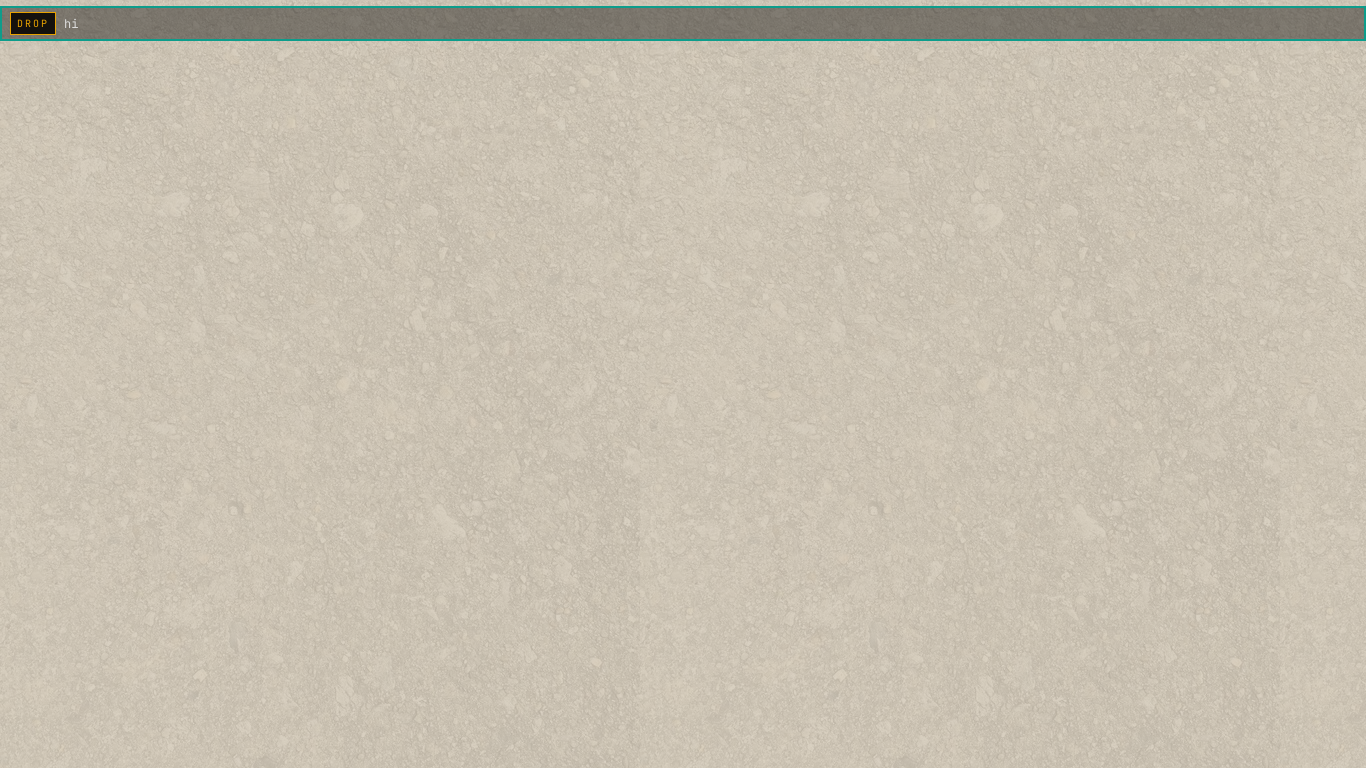
Test: DropSlot › collapse button returns to compact mode
This screenshot has width=1366, height=768.
Step 1. Click the button with test id "drop-slot" → click(33, 24), box left=0, top=6, right=1365, bottom=41
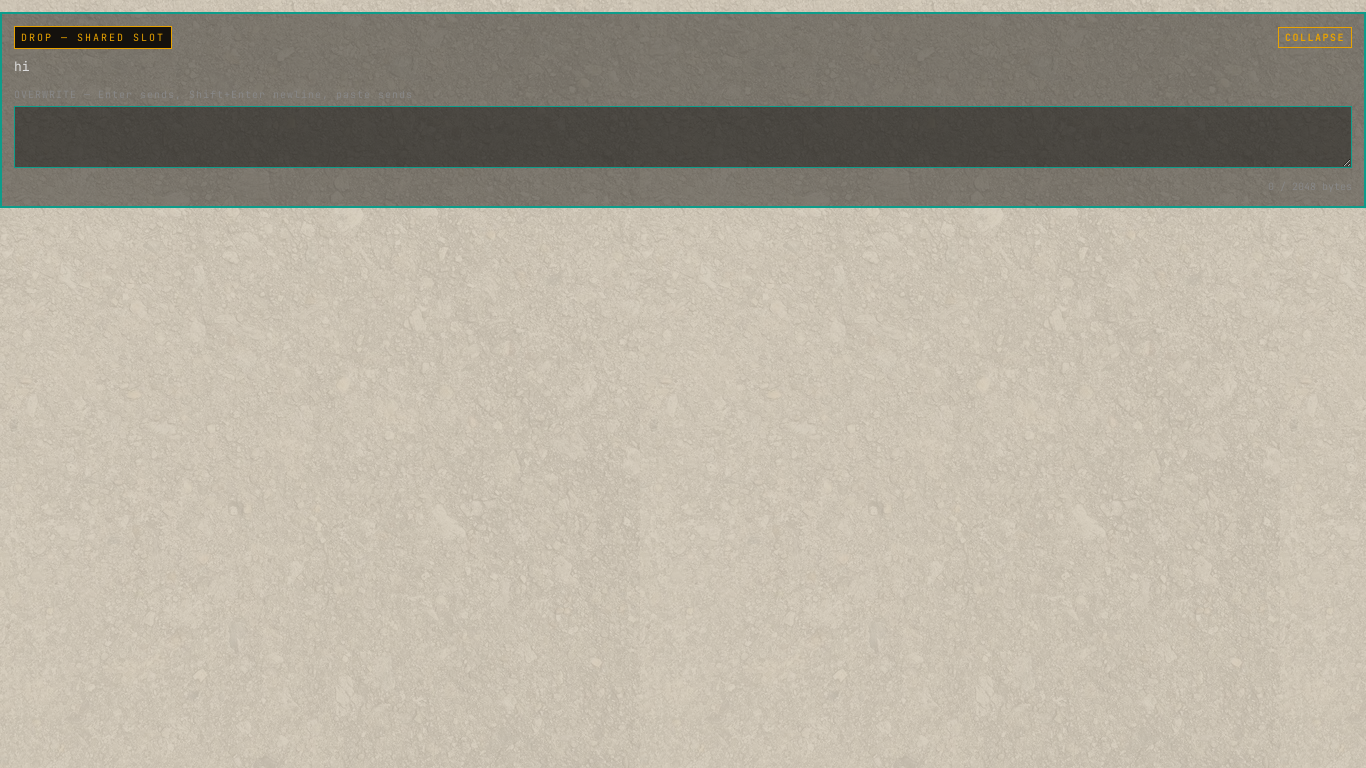
Step 2. Click the button with test id "drop-slot-collapse" → click(1315, 38), box left=1278, top=27, right=1352, bottom=48
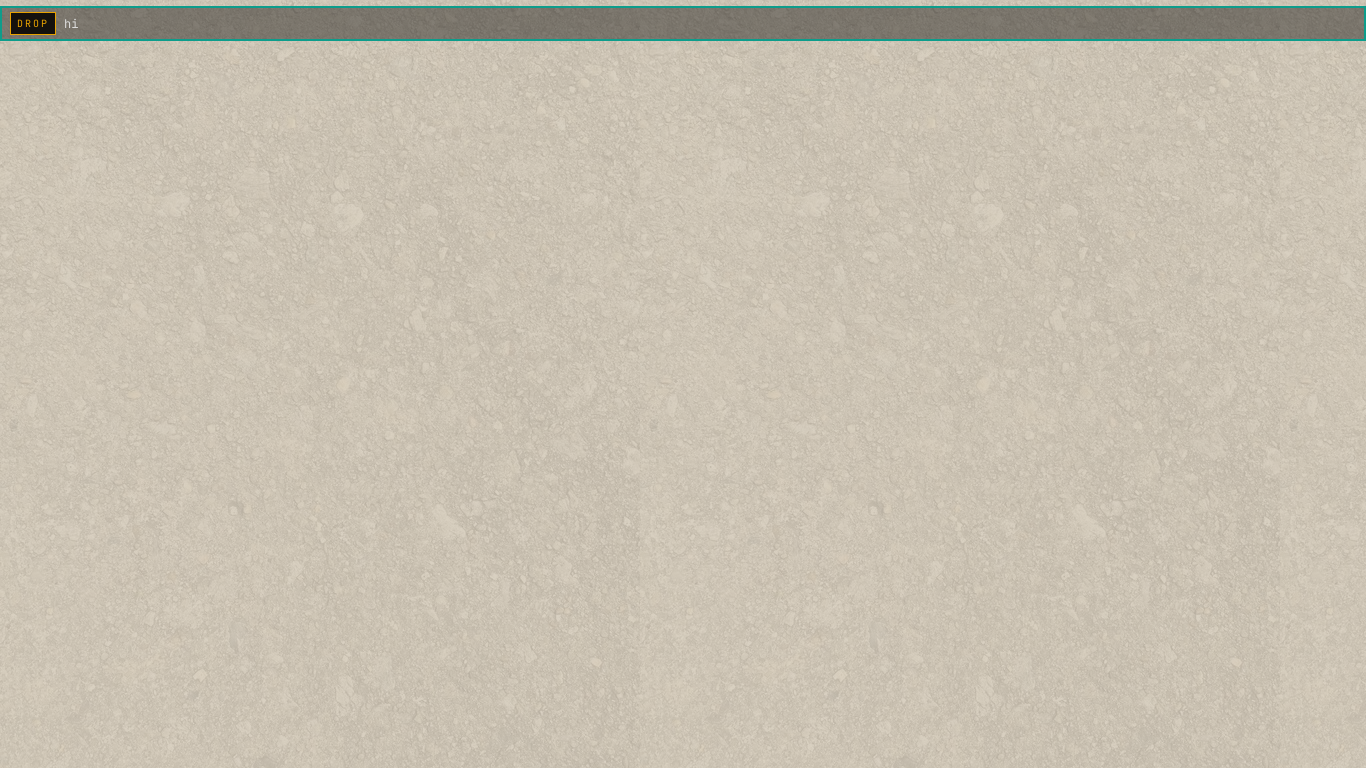
Expected: the label with test id "drop-slot-input" is gone
